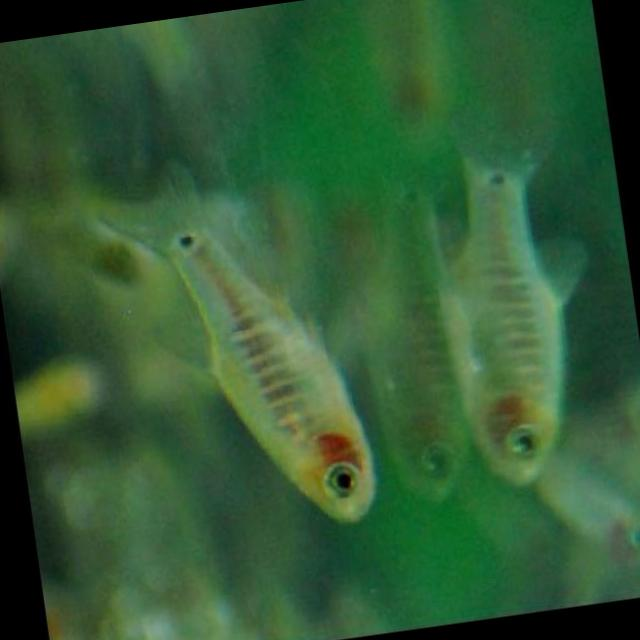ZebraFish: (88, 144, 380, 554)
